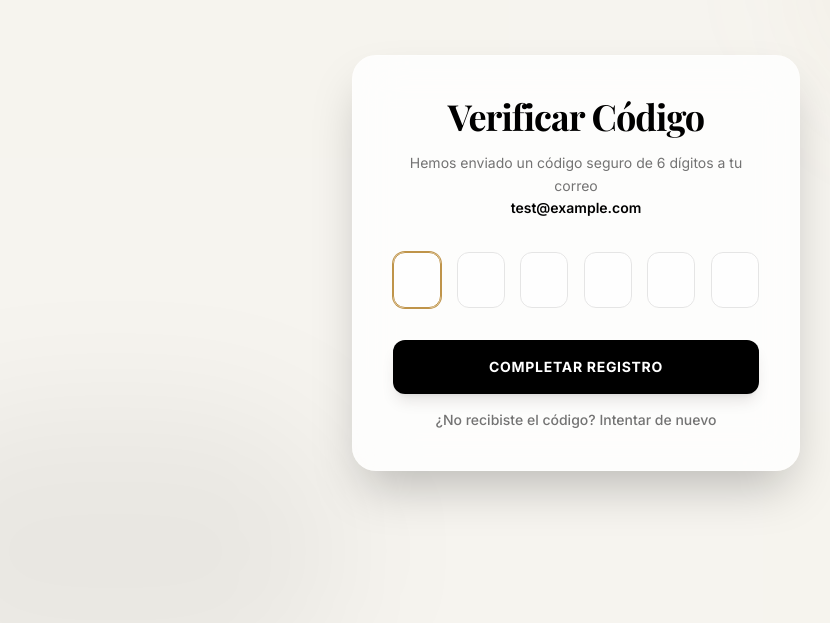
Test: OtpPage › shows unknown error when non-Error object is thrown
The width and height of the screenshot is (830, 623).
Type "1" into the 1st field at (417, 280), box [393,252,441,308]
Type "1" into the 2nd field at (481, 280), box [457,252,505,308]
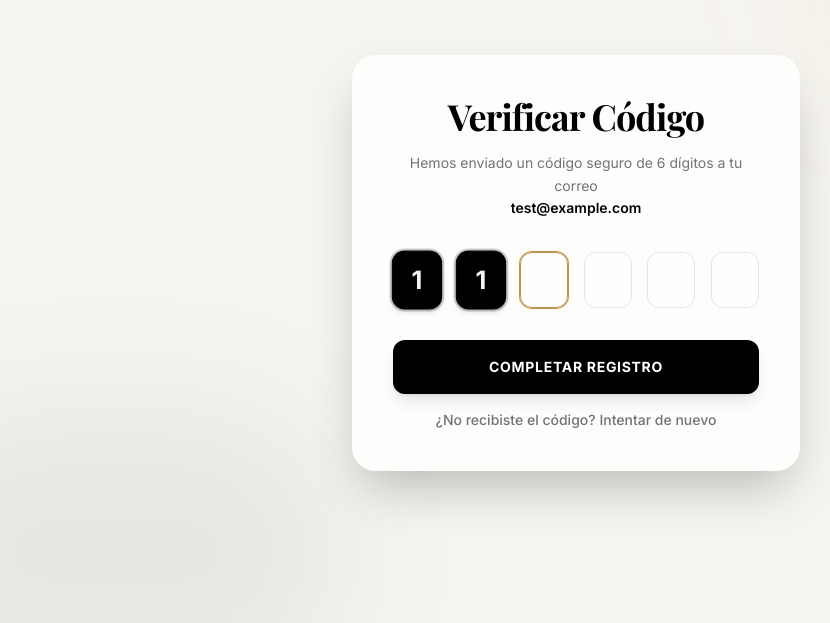
Type "1" into the 3rd field at (544, 280), box [520,252,568,308]
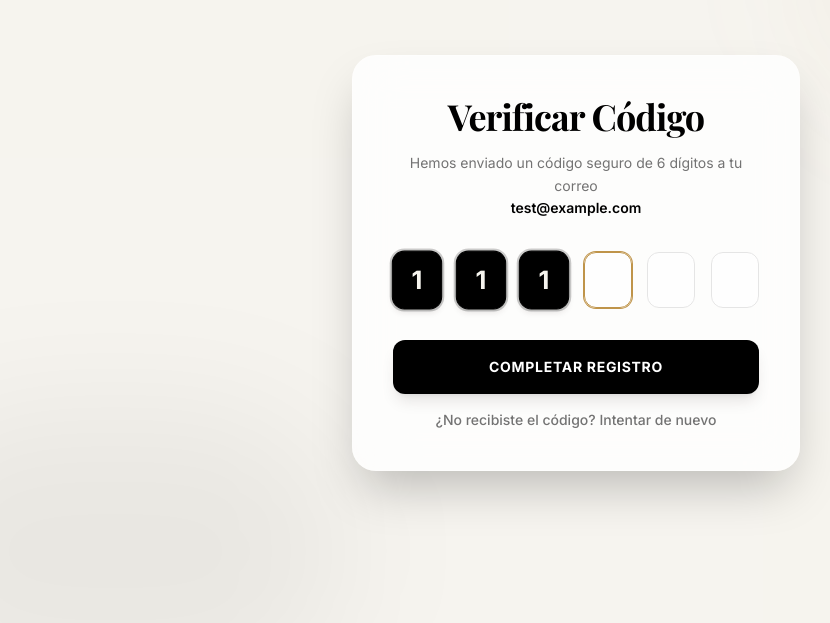
Type "1" into the 4th field at (608, 280), box [584,252,632,308]
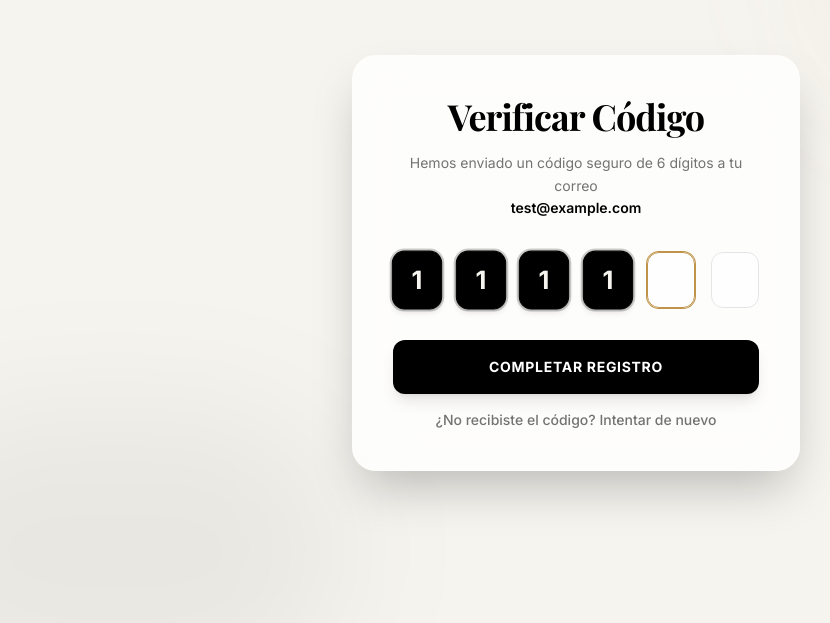
Type "1" into the 5th field at (671, 280), box [647,252,695,308]
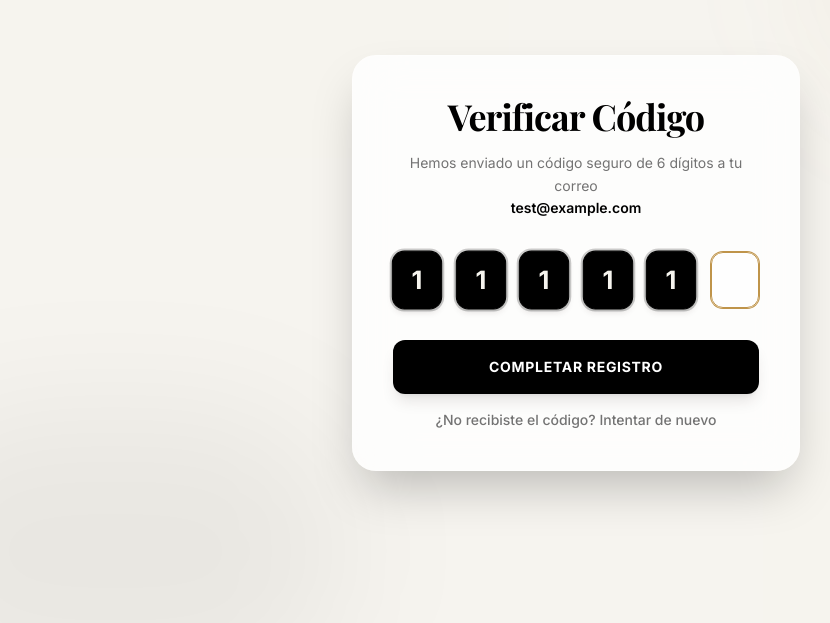
Type "1" into the 6th field at (735, 280), box [711,252,759,308]
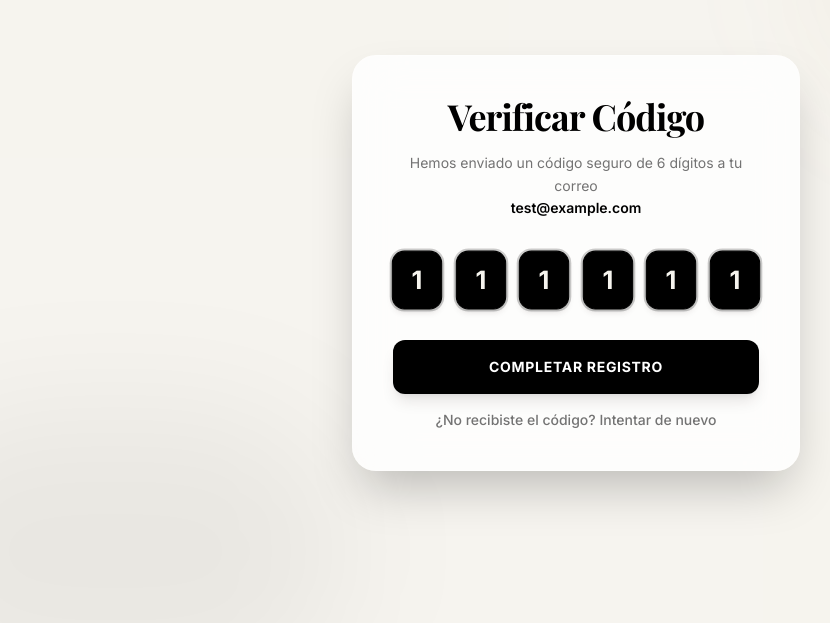
Click the button "Completar Registro" at (576, 367), box [393,340,759,394]
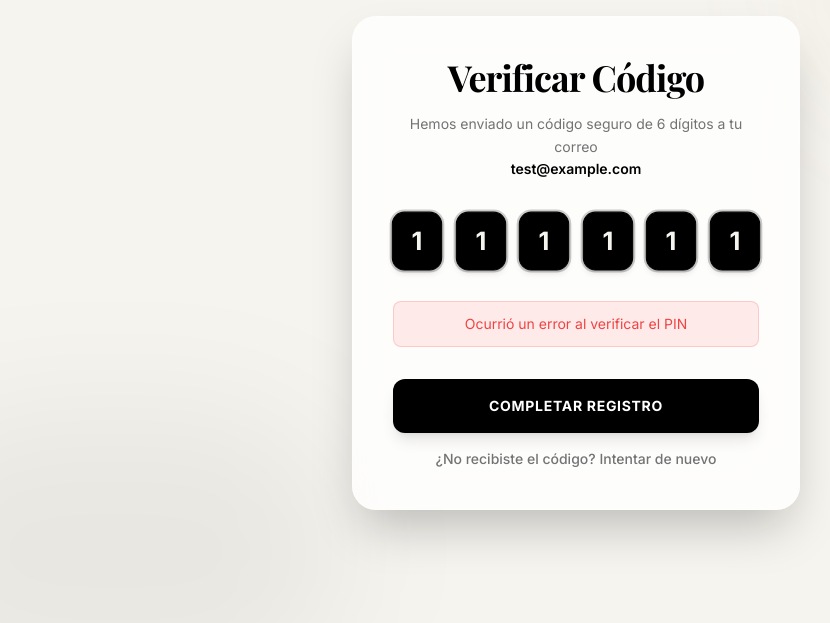
expect the text "Ocurrió un error al verificar el PIN" is shown: met, box [393,301,759,347]
